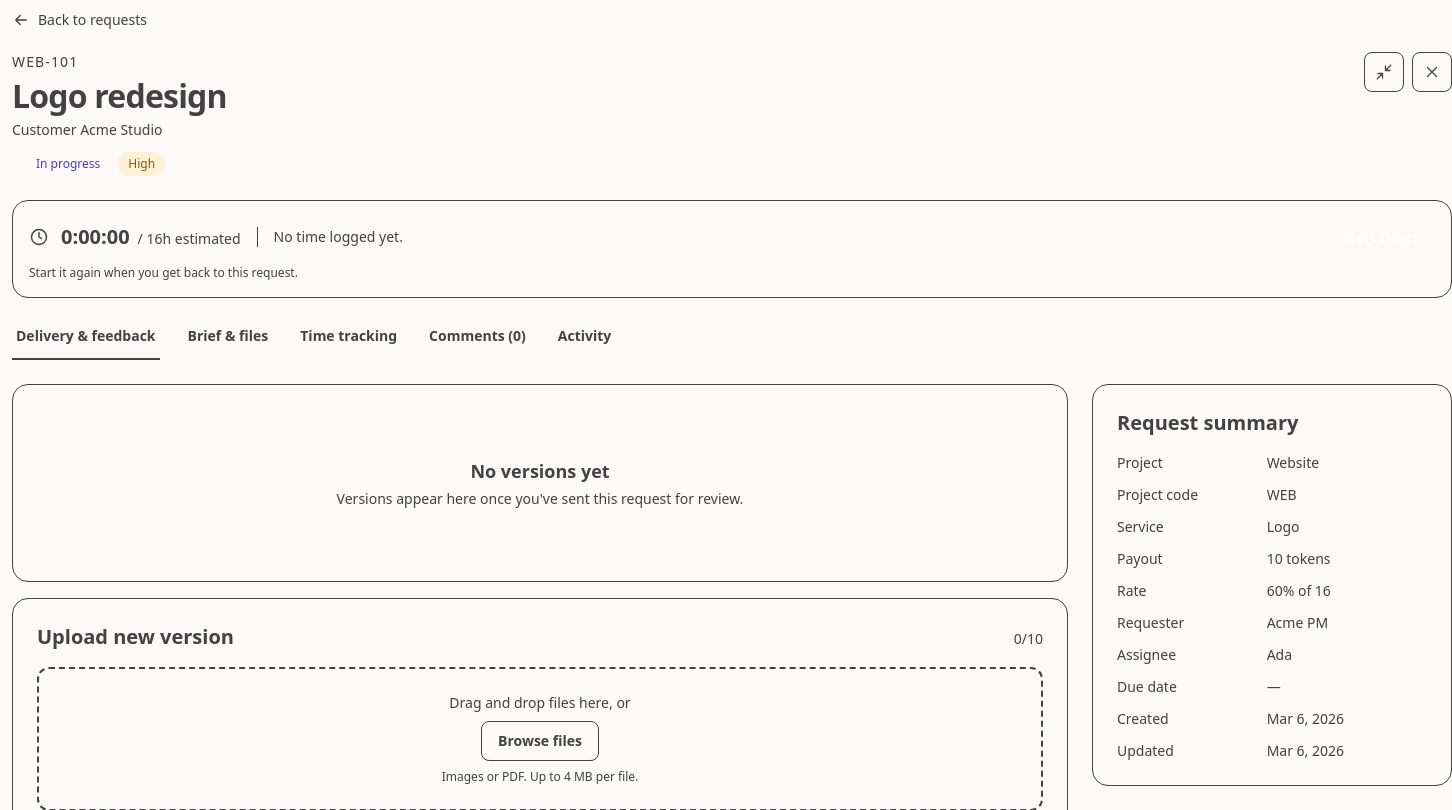
Test: Creative job detail › shows the timer with the real estimate, and the log in its own tab
Expected: the text "0:00:00" is shown, [61,223,130,251]
Expected: the text "/ 16h estimated" is shown, [138,229,241,249]
Click the tab "Time tracking". click: (349, 341)
box: [296,322,401,360]
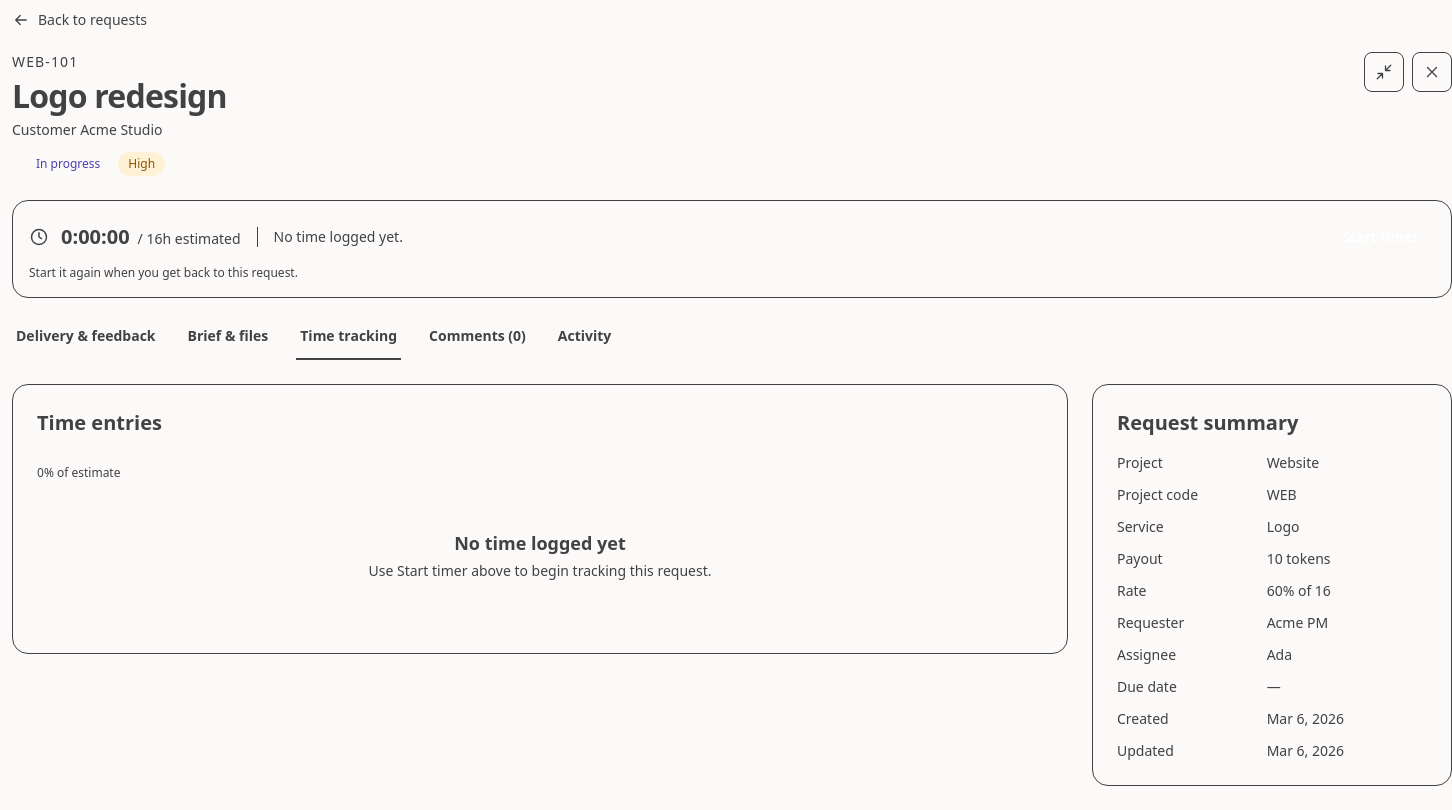
Result: the heading "Time entries" is shown at [37,409,162,436]
